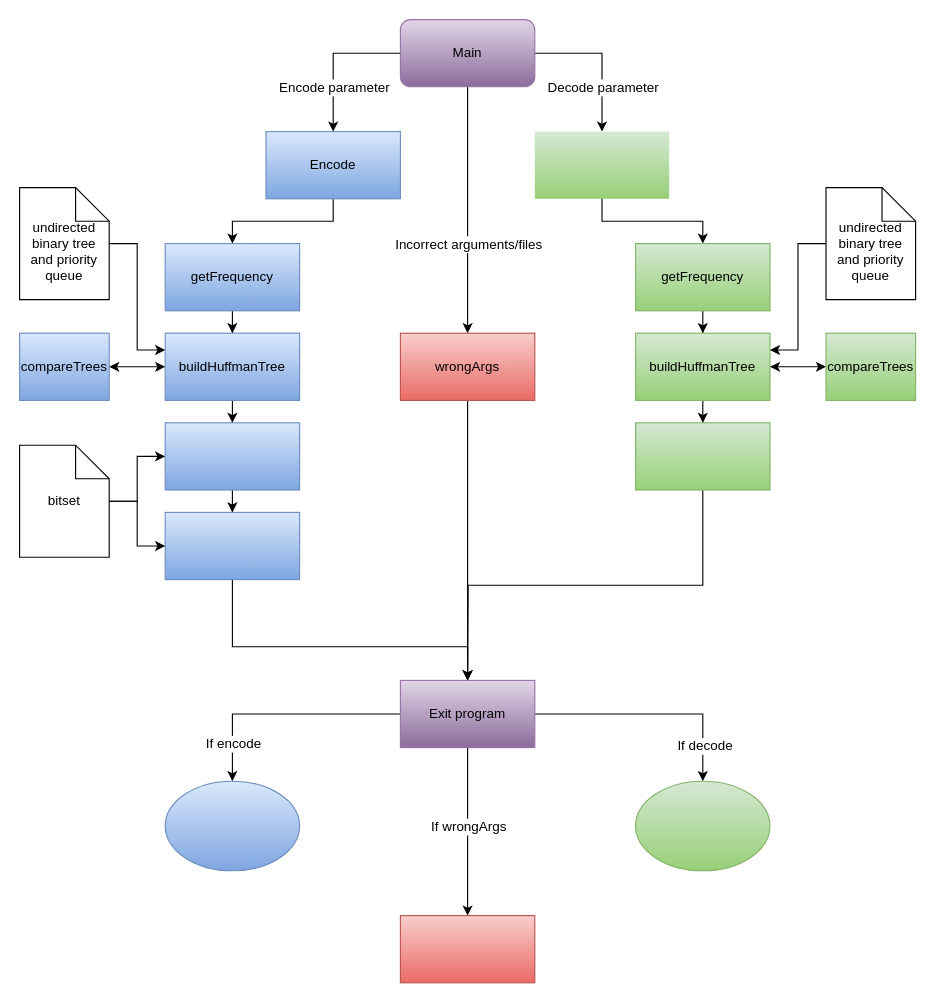
Some shapes in this 935 by 1002 pixel diagram are drawn without their labels. The shapes that lost their labels are listed below. From the top down, each one's centre as x and y in pixels, then its label:
At point 601,164: "Decode".
At point 232,456: "traverseTree".
At point 702,456: "decodeFile".
At point 232,545: "encodeFile".
At point 232,825: "Output: encoded file".
At point 702,825: "Output: decoded file".
At point 467,948: "No output".
